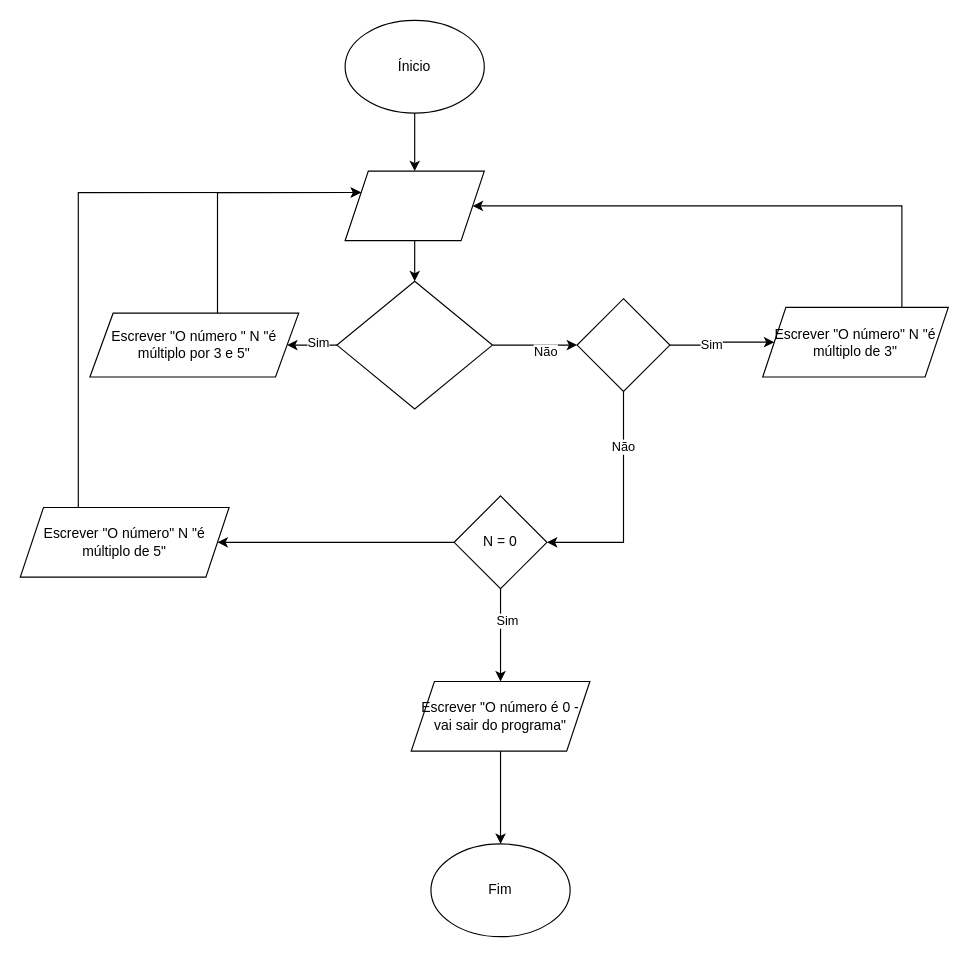
The diagram is 969 pixels wide and 957 high, and some of its shapes have lost their labels. The shapes that lost their labels are listed below. From the top down, each one's centre as x and y in pixels, then its label:
the point at 414,205: Ler N
the point at 414,344: N MOD 3 = 0 e N MOD 5 = 0
the point at 623,345: N MOD 3 = 0
